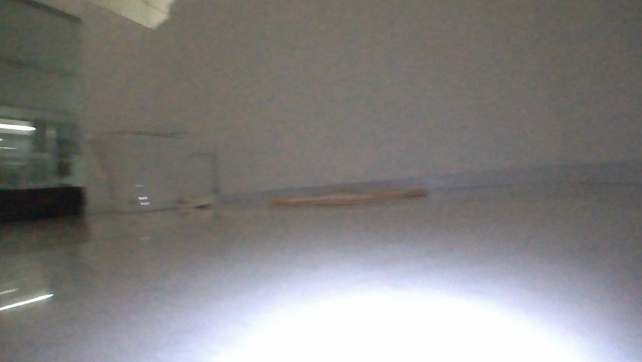toilet: (84, 125, 218, 215)
